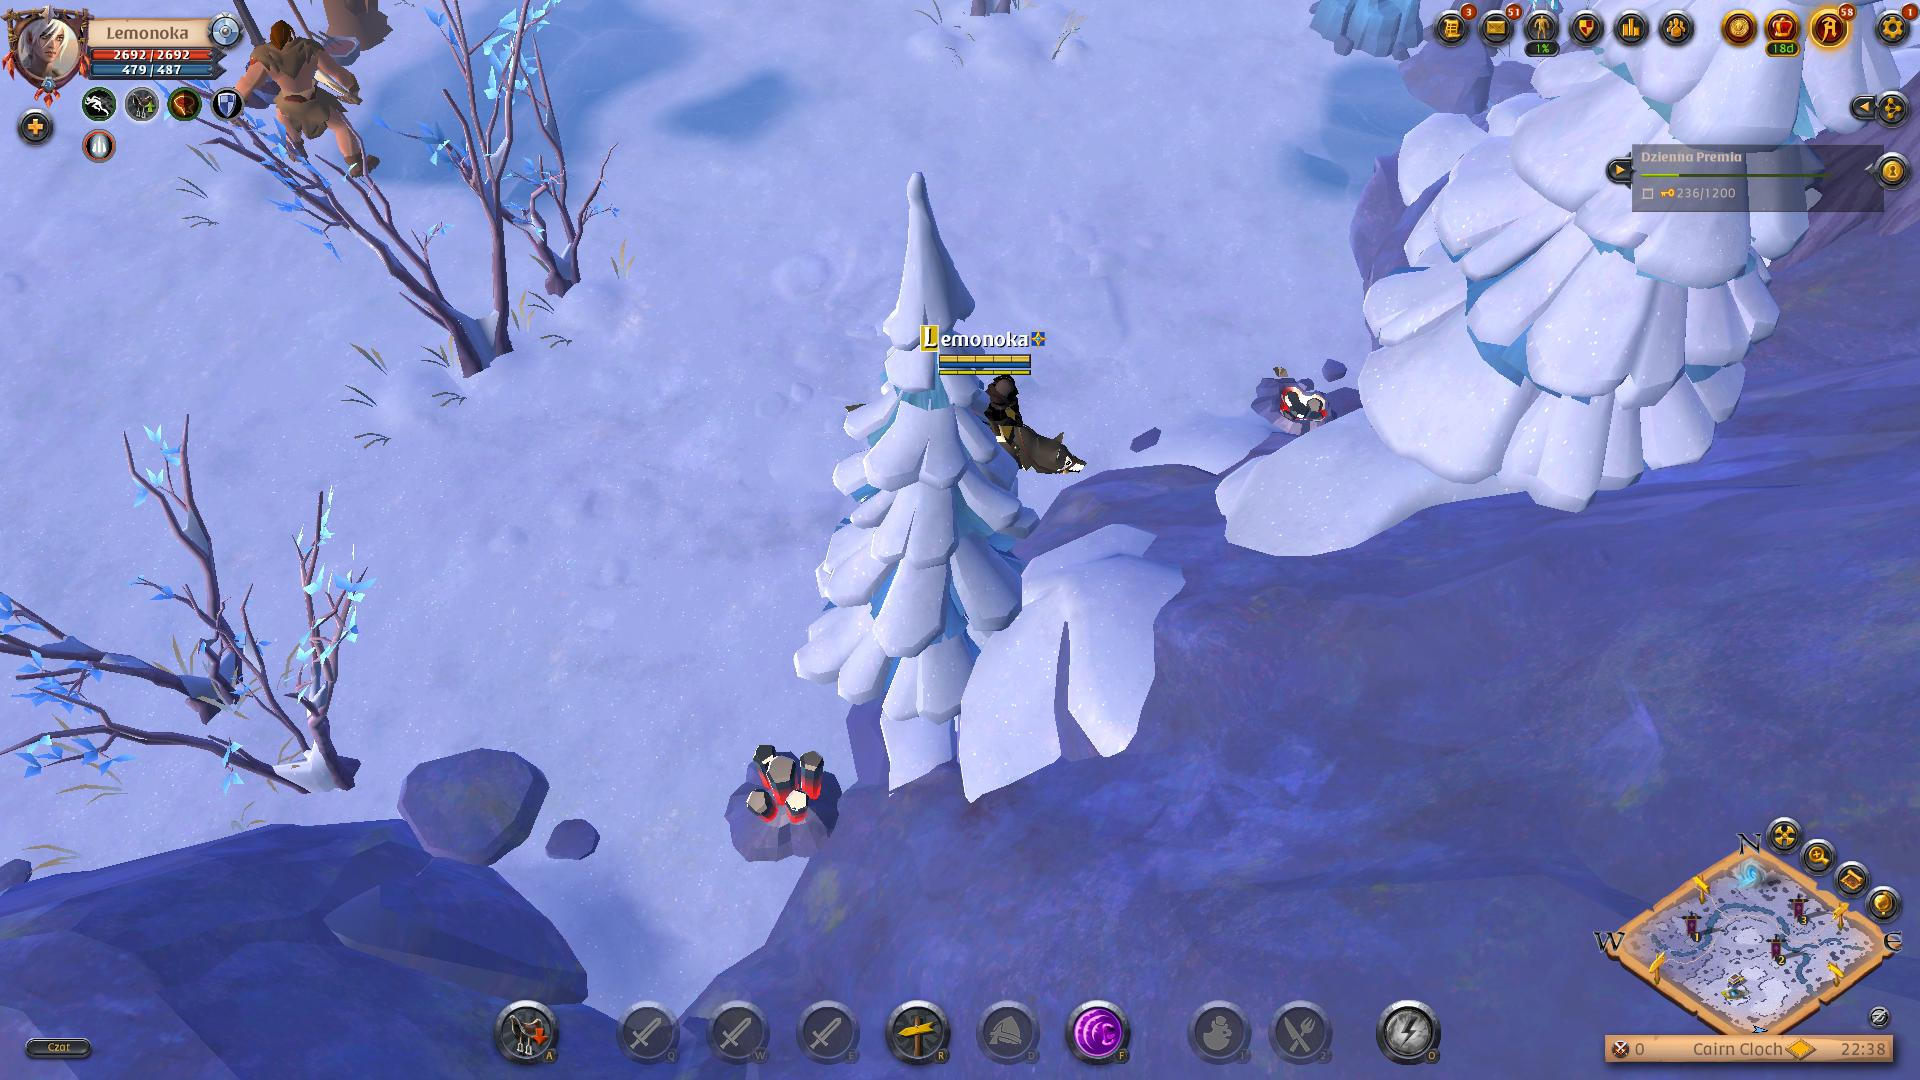ore tier 5: (728, 740, 848, 860)
